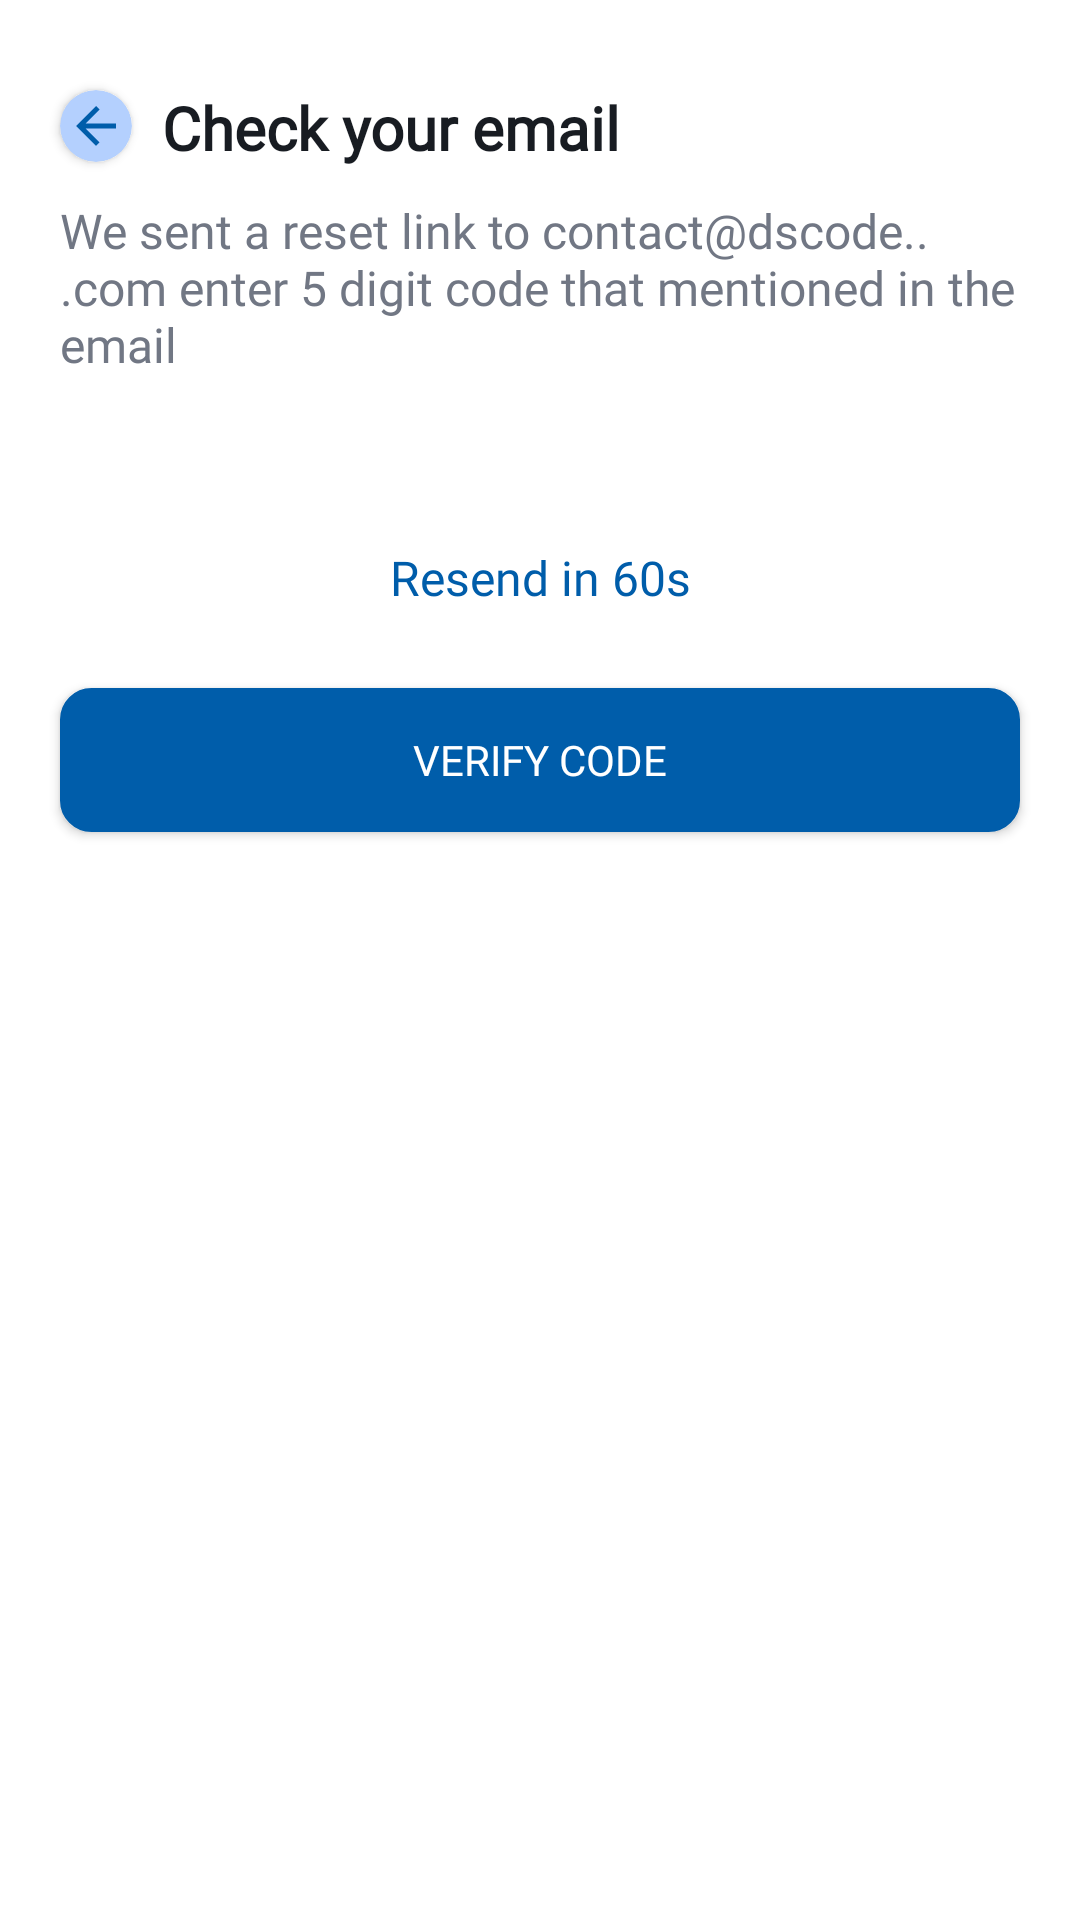

Named icons in this screenshot (1080*1920) and their centers, (x=x, y=y):
back: (x=96, y=126)
